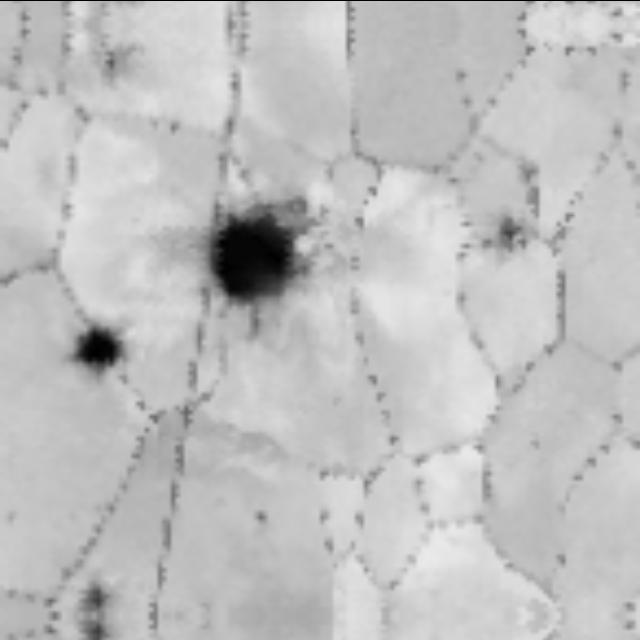good_void: (180, 181, 337, 350), (62, 315, 141, 388), (469, 199, 546, 272), (85, 24, 152, 93), (74, 572, 111, 616), (241, 502, 283, 537), (85, 0, 137, 24), (74, 616, 111, 640), (523, 435, 547, 451)
